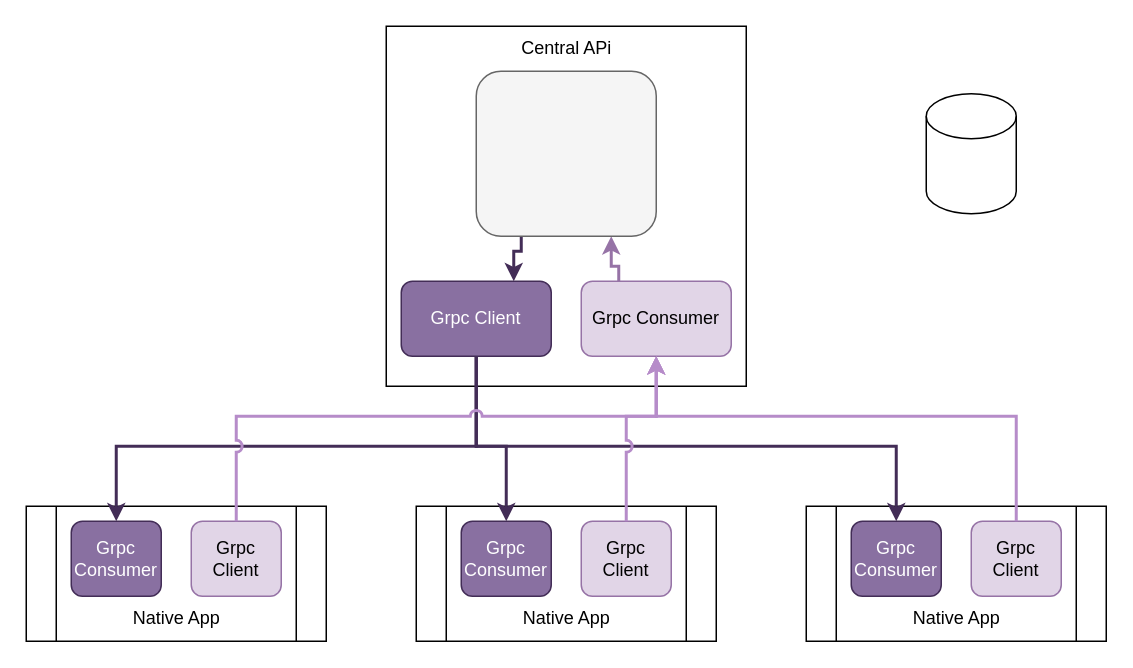
The diagram is 1133 pixels wide and 668 high, and some of its shapes have lost their labels. Each missing label, with the centre of its shape:
DB Mysql: [970,153]
Miscellaneous Service: [565,153]
